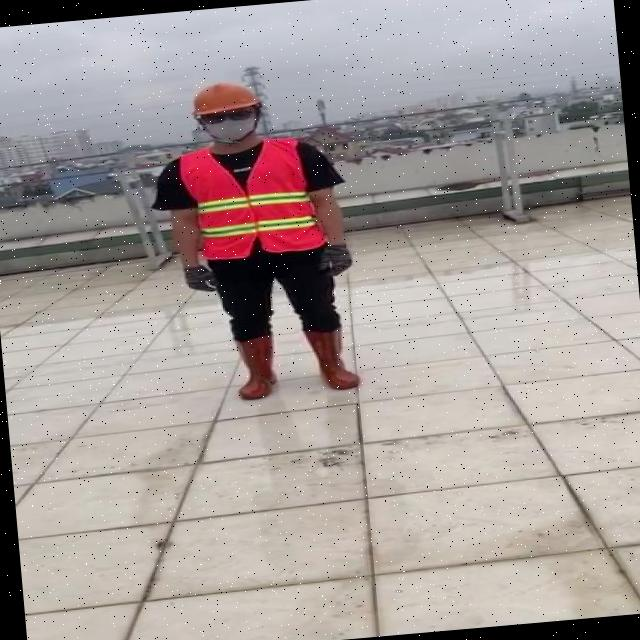boots: (302, 326, 366, 392), (230, 332, 286, 402)
